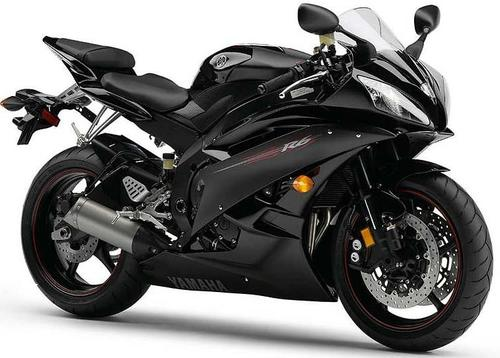motor: (24, 7, 495, 349)
